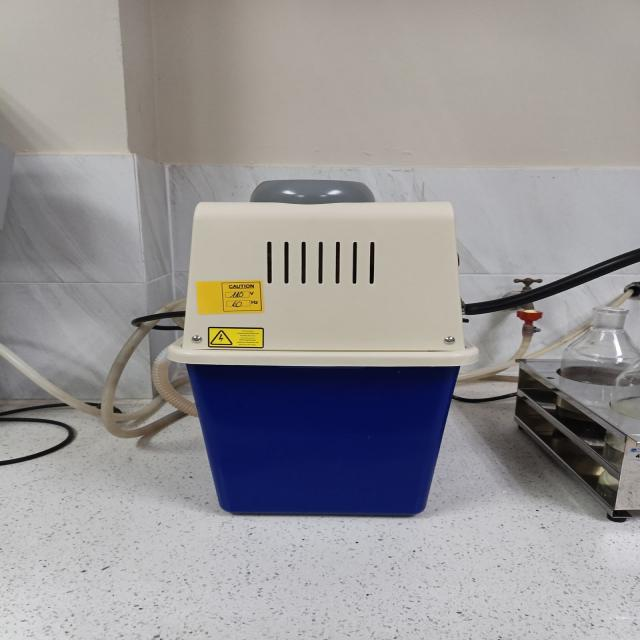Bomba de Vacio por Recirculacion de Agua: (102, 180, 477, 515)
